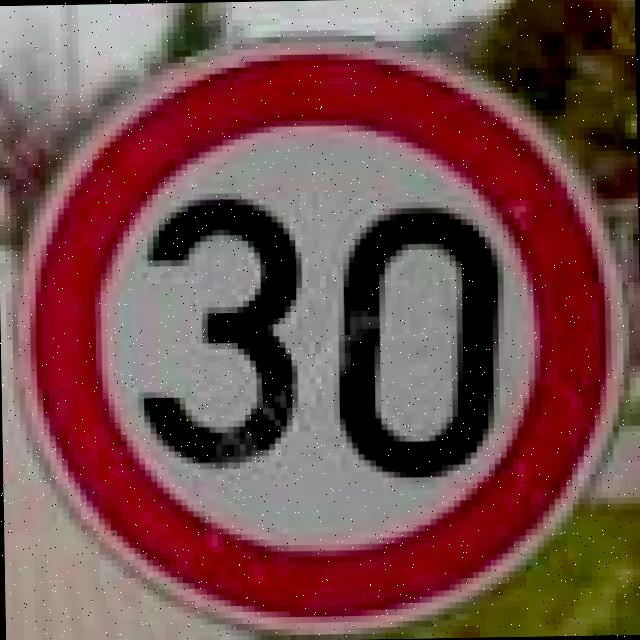Ograniczenie predkosci do 30: (12, 13, 610, 639)
